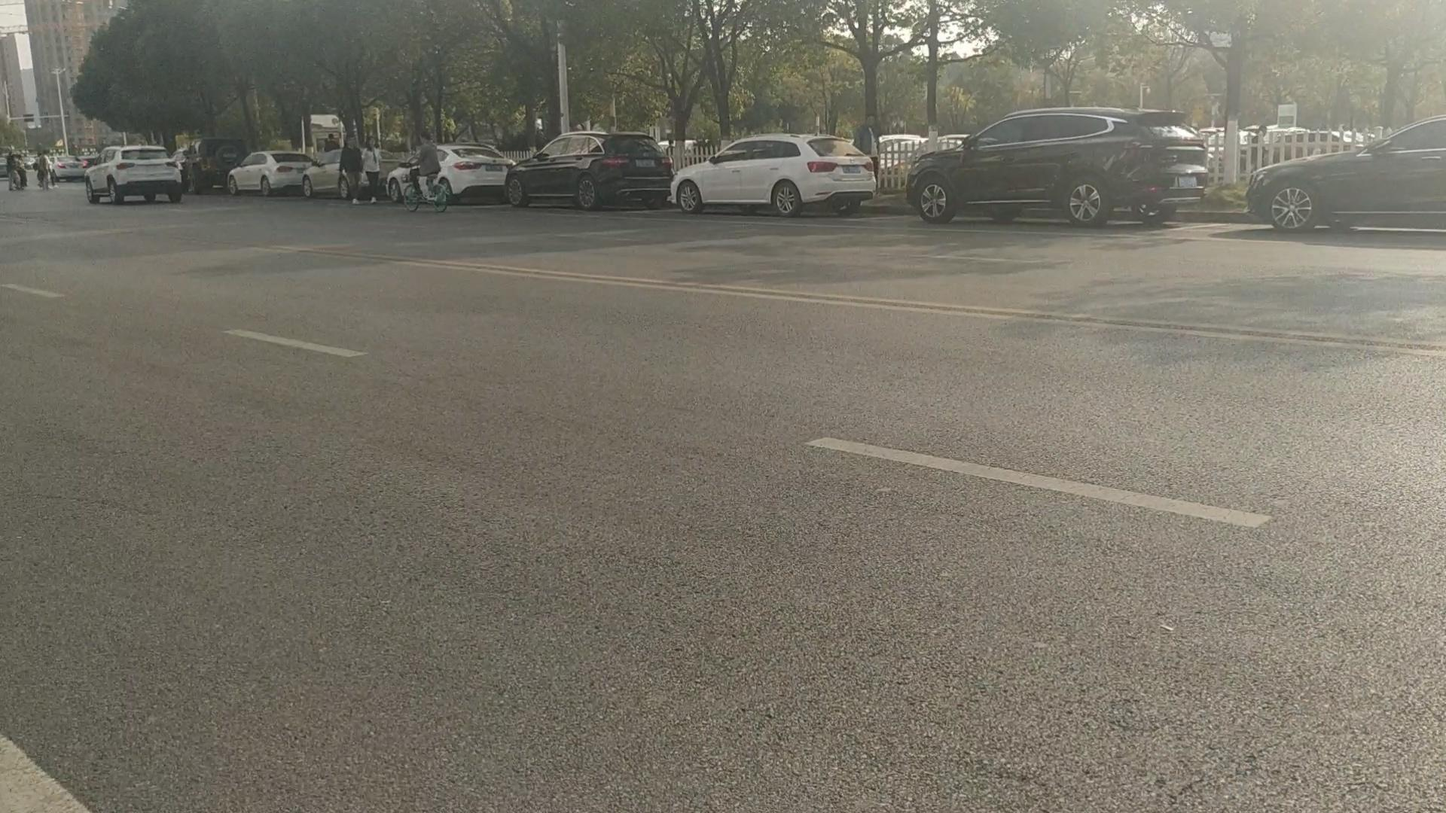car: (904, 106, 1210, 227), (1243, 114, 1445, 231), (668, 134, 876, 218), (504, 129, 673, 211), (408, 144, 516, 204), (84, 145, 185, 206), (225, 151, 319, 197), (184, 139, 250, 193), (47, 154, 86, 184)
